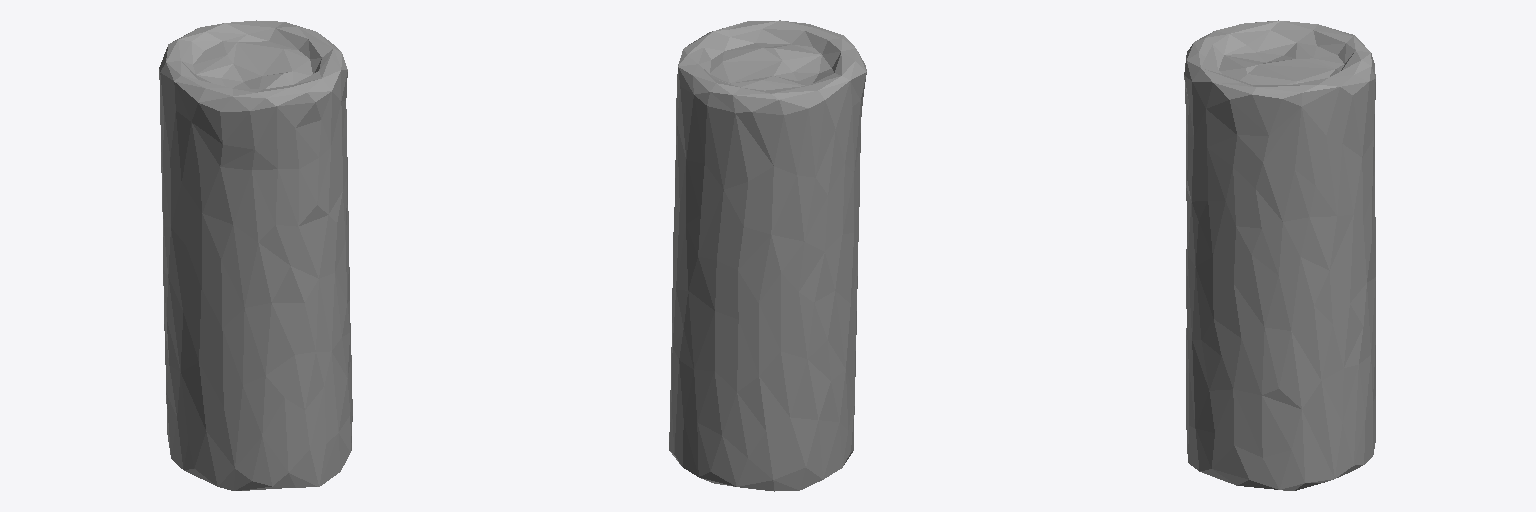
URDF robot description (salt_cellar):
<?xml version="1.0"?>

<robot name="salt_cellar">
  <link name="salt_cellar_frame">
    <visual>
      <geometry>
        <mesh filename="package://kitchen_context/models/salt_cellar/meshes/salt_cellar.dae"/>
      </geometry>
    </visual>
  </link>
</robot>

--- Facts derived from the render (not from the file) ---
3 views of the same robot in one strip: view 1: azimuth 30°, elevation 25°; view 2: azimuth 150°, elevation 25°; view 3: azimuth 270°, elevation 25° (orthographic).
Robot: salt_cellar — 1 links, 0 joints (none); root link salt_cellar_frame; default pose: all joints at 0.
Links seen in each view (by area): view 1: salt_cellar_frame; view 2: salt_cellar_frame; view 3: salt_cellar_frame.
Link boxes in pixels (left/top/right/bottom): salt_cellar_frame: left=159, top=20, right=352, bottom=490; salt_cellar_frame: left=669, top=20, right=866, bottom=491; salt_cellar_frame: left=1184, top=20, right=1375, bottom=490.
Bounding box of the posed robot: 0.05 × 0.05 × 0.115 m (x, y, z).
1 mesh visuals loaded from 1 distinct referenced files (1 Collada DAE).